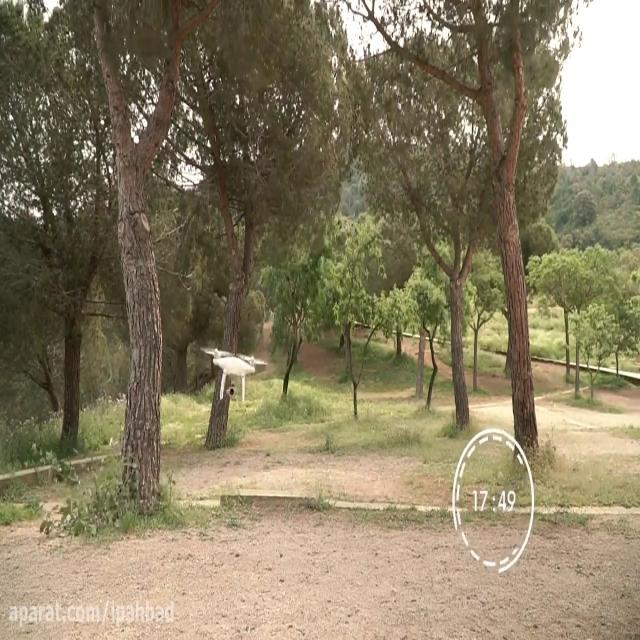drone: (199, 343, 270, 405)
